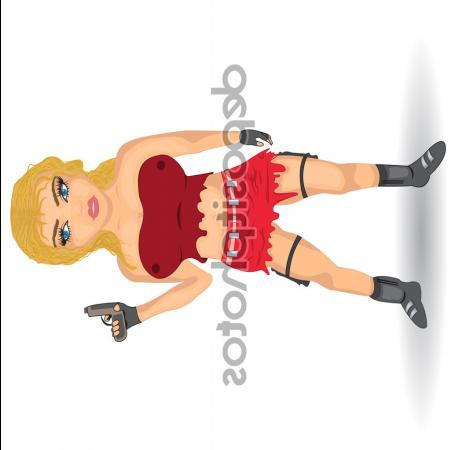Pistol: (81, 300, 127, 342)
